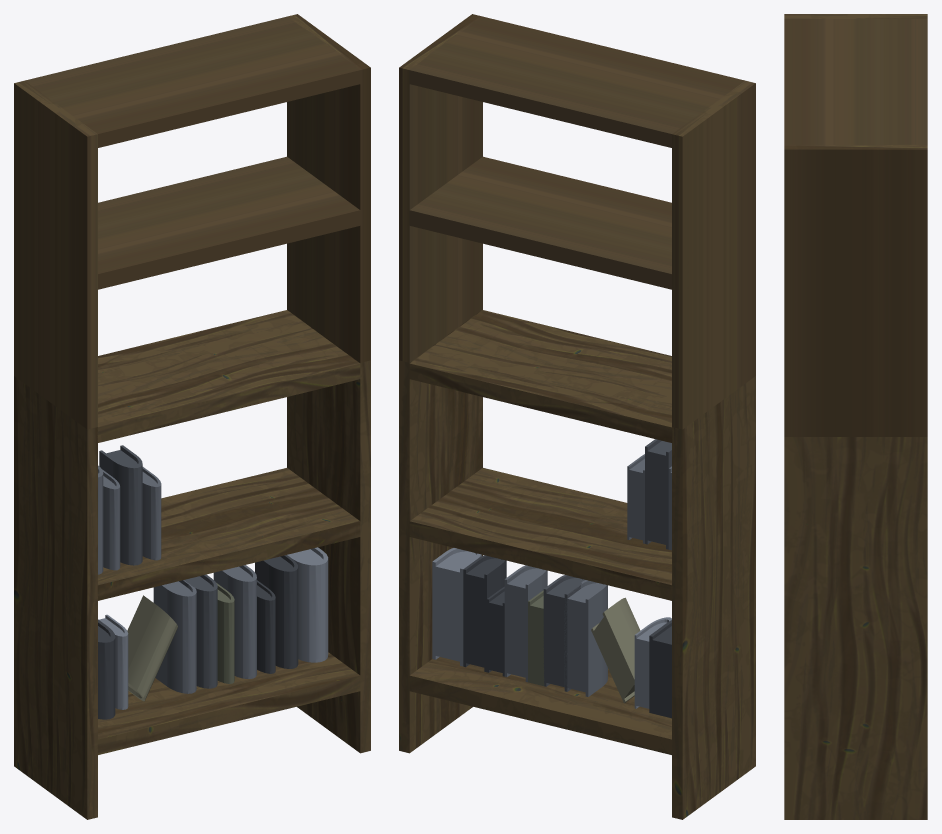
File: BOOKSHELF(TALL).fbx
3 views of the same model, side by side, from view 1: azimuth 30°, elevation 25°; view 2: azimuth 150°, elevation 25°; view 3: azimuth 270°, elevation 25° (orthographic).
Parts seen in each view (by area): view 1: bookshelf; view 2: bookshelf; view 3: bookshelf.
Part boxes in pixels (left/top/right/bottom): bookshelf: left=14, top=14, right=370, bottom=819; bookshelf: left=399, top=14, right=755, bottom=819; bookshelf: left=784, top=14, right=927, bottom=819.
Size of the model in its own units: 7.68 by 17.68 by 3.43.
